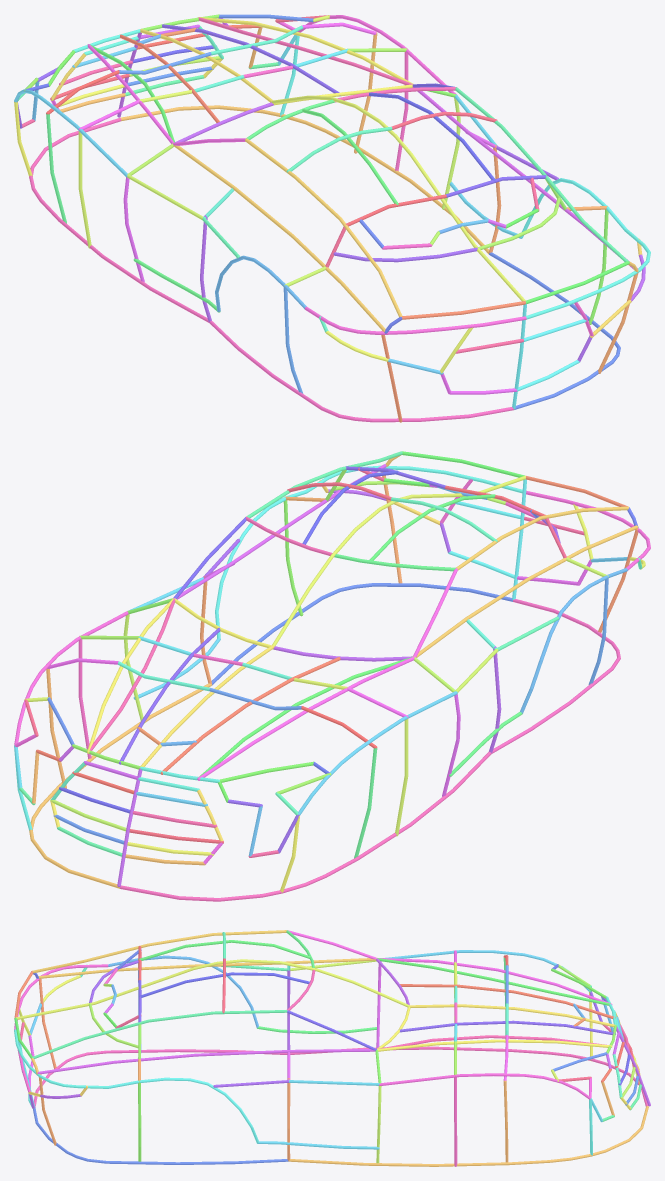
The model's file is ils_car5.gltf.
3 views of the same model, one above another, from view 1: azimuth 30°, elevation 25°; view 2: azimuth 150°, elevation 25°; view 3: azimuth 270°, elevation 25° (orthographic). The views are drawn at different scales.
Size of the model in its own units: 0.4201 by 0.2362 by 0.883.
